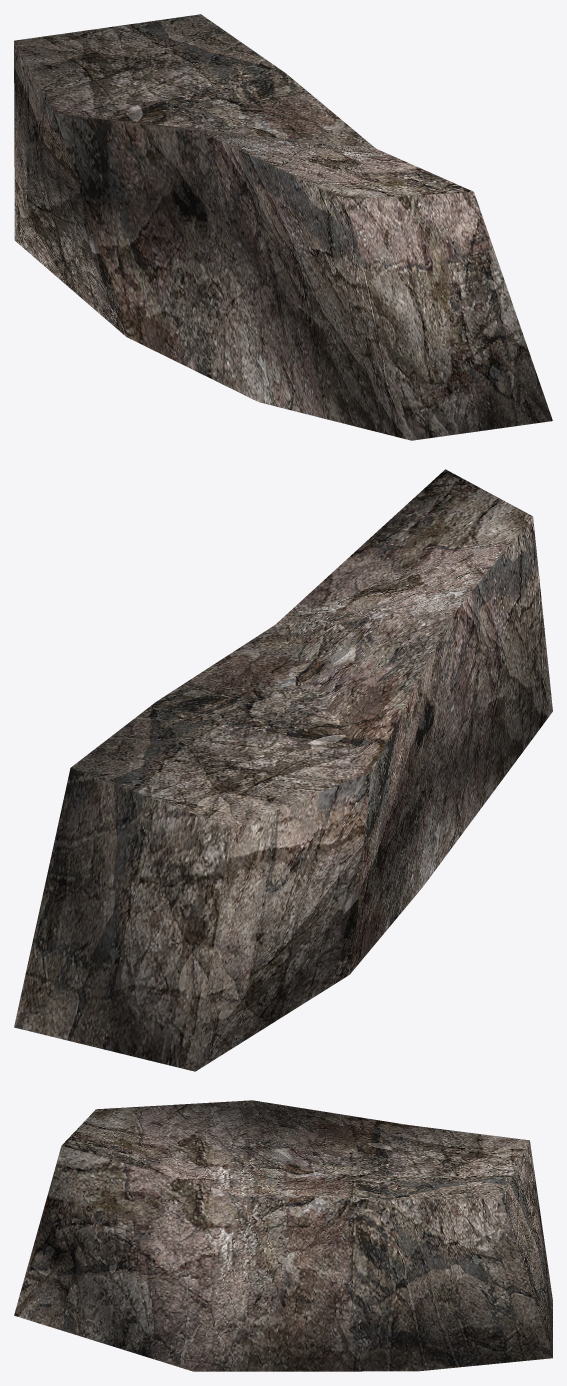
Rendered from rock2.glb.
The picture shows the model from 3 angles, top to bottom: view 1: azimuth 30°, elevation 25°; view 2: azimuth 150°, elevation 25°; view 3: azimuth 270°, elevation 25°; orthographic projection. The views are drawn at different scales.
Parts seen in each view (by area): view 1: rock; view 2: rock; view 3: rock.
Boxes of the visible parts, bbox=[...] form: rock: bbox=[14, 14, 552, 440]; rock: bbox=[14, 469, 552, 1071]; rock: bbox=[14, 1100, 552, 1371].
Bounding box in the file's own units: 11.37 × 10.23 × 25.68.
Materials: 1 (1 with a texture image).
